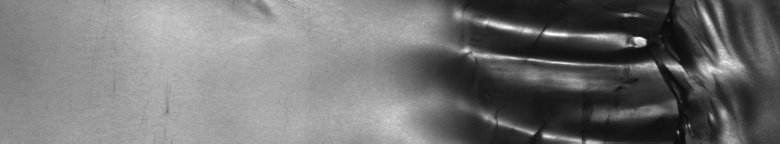ke: (438, 4, 763, 136)
